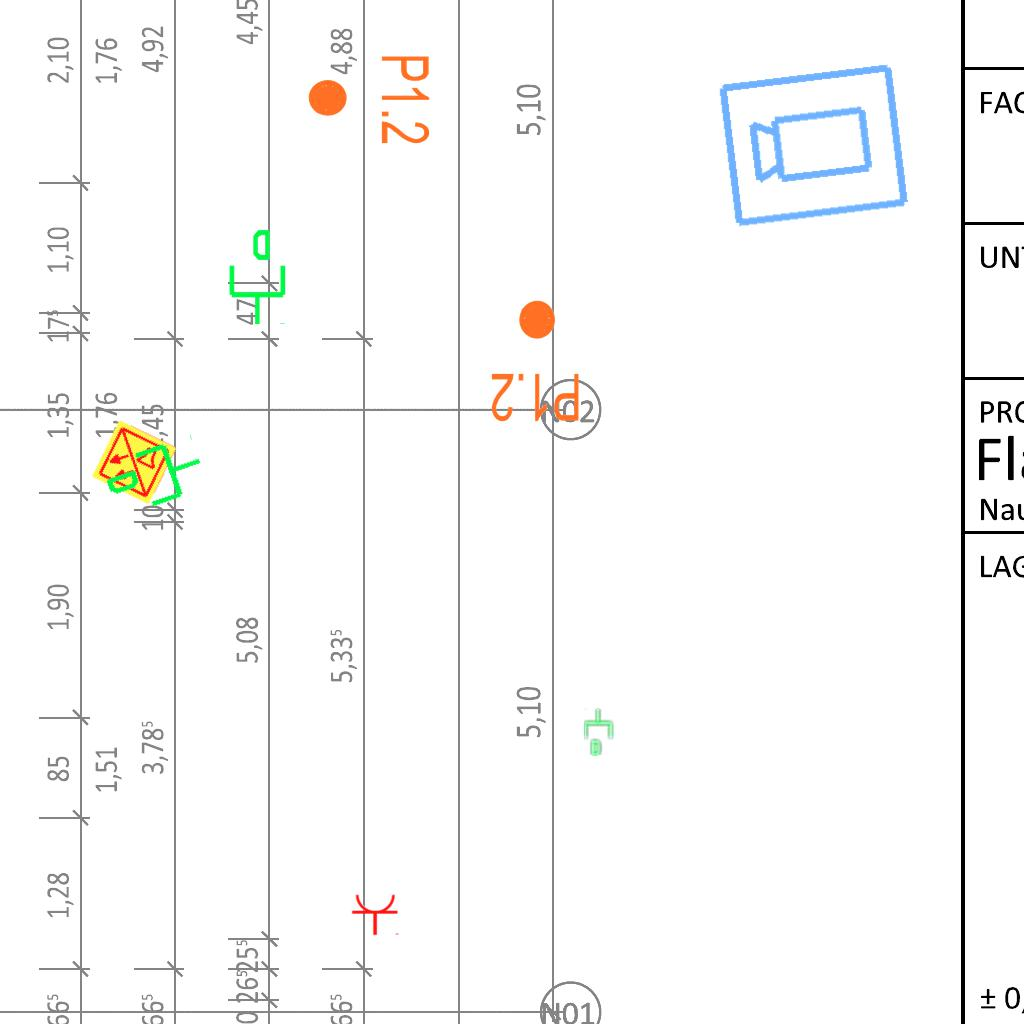Datenanschluss_einfach: (96, 429, 215, 527), (221, 227, 290, 327), (582, 707, 616, 757)
Downlight_LED_Einbauleuchten_Flur: (489, 297, 582, 425), (305, 53, 433, 146)
KFO_Kamera_mit_Festobjektiv: (714, 56, 914, 232)
OKW_Multisensormelder_(Kombination_optischer_Rauch-Kahlenmonoxid_Waerme-Melder): (89, 417, 179, 507)
Schukosteckdose_einfach: (351, 893, 401, 936)
